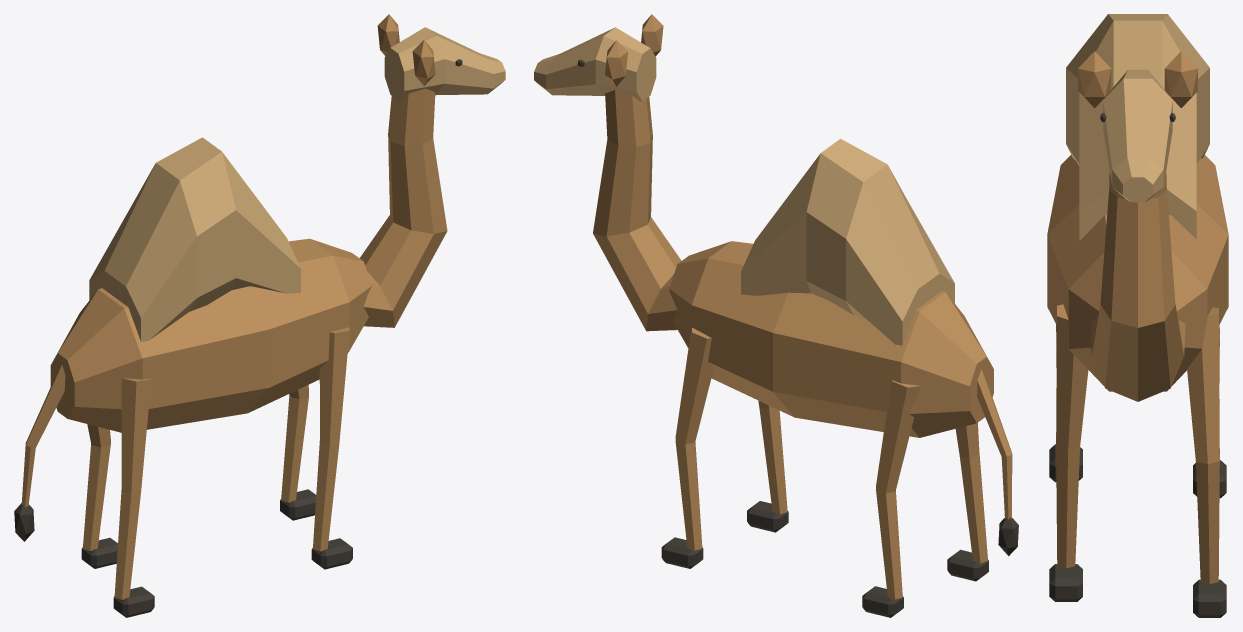
The model's file is camel.glb.
3 views of the same model, side by side, from view 1: azimuth 30°, elevation 25°; view 2: azimuth 150°, elevation 25°; view 3: azimuth 270°, elevation 25° (orthographic). The views are drawn at different scales.
Parts seen in each view (by area): view 1: Sculpted silhouette, Sculpted silhouette.001, Tapered form.004, Sculpted silhouette.002, Tapered form, Tapered form.002, Tapered form.001, Tapered form.003, Tapered form.005, Cube, Cube.002, Cube.001 (+2 smaller); view 2: Sculpted silhouette, Sculpted silhouette.001, Tapered form.004, Sculpted silhouette.002, Tapered form.001, Tapered form.003, Tapered form, Tapered form.002, Tapered form.005, Cube.003, Cube.001, Cube (+3 smaller); view 3: Sculpted silhouette, Tapered form.004, Sculpted silhouette.001, Sculpted silhouette.002, Tapered form.003, Tapered form.002, Icosphere, Icosphere.002, Cube.003, Cube.002, Cube.001, Cube.
Part boxes in pixels (x1,y1,x2,y2): Sculpted silhouette: [50, 238, 371, 432]; Sculpted silhouette.001: [89, 137, 300, 342]; Tapered form.004: [359, 88, 447, 327]; Sculpted silhouette.002: [384, 27, 505, 100]; Tapered form: [114, 378, 151, 599]; Tapered form.002: [313, 327, 349, 551]; Tapered form.001: [83, 424, 110, 550]; Tapered form.003: [281, 385, 308, 502]; Tapered form.005: [21, 364, 65, 507]; Cube: [113, 586, 154, 617]; Cube.002: [311, 538, 352, 569]; Cube.001: [81, 537, 117, 568]; Sculpted silhouette: [669, 241, 993, 437]; Sculpted silhouette.001: [741, 138, 954, 345]; Tapered form.004: [593, 90, 681, 331]; Sculpted silhouette.002: [534, 27, 656, 101]; Tapered form.001: [876, 380, 921, 599]; Tapered form.003: [675, 327, 713, 550]; Tapered form: [955, 423, 987, 563]; Tapered form.002: [758, 400, 787, 514]; Tapered form.005: [977, 369, 1012, 519]; Cube.003: [661, 537, 703, 568]; Cube.001: [862, 586, 903, 617]; Cube: [947, 549, 988, 581]; Sculpted silhouette: [1047, 155, 1228, 391]; Tapered form.004: [1090, 172, 1185, 401]; Sculpted silhouette.001: [1066, 14, 1209, 240]; Sculpted silhouette.002: [1103, 69, 1172, 202]; Tapered form.003: [1187, 307, 1219, 584]; Tapered form.002: [1056, 304, 1088, 568]; Icosphere: [1078, 51, 1111, 108]; Icosphere.002: [1164, 51, 1197, 108]; Cube.003: [1193, 579, 1226, 617]; Cube.002: [1049, 564, 1082, 601]; Cube.001: [1193, 460, 1226, 498]; Cube: [1049, 444, 1082, 482].
Bounding box in the file's own units: 1.18 × 1.16 × 0.3141.
